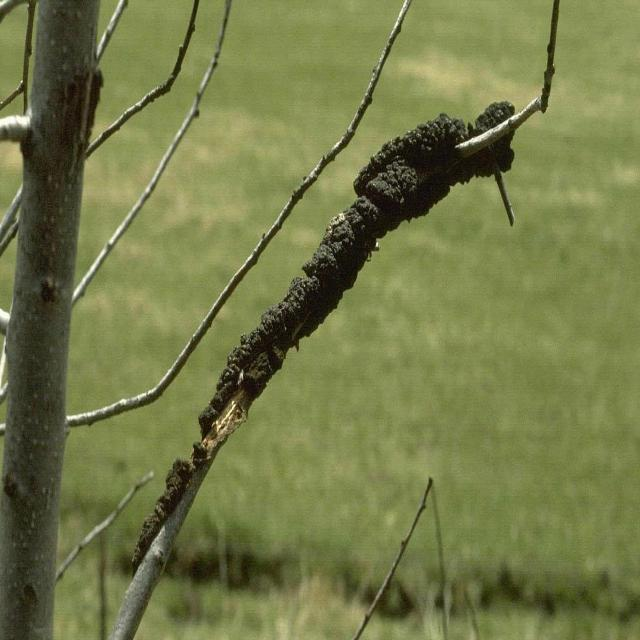Black_knot: (128, 67, 516, 603)
